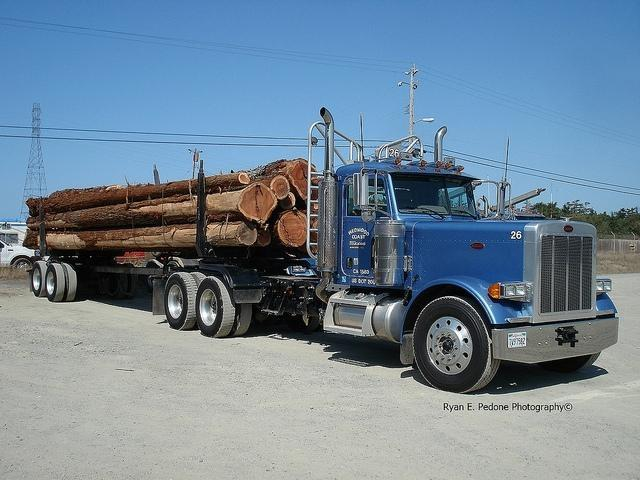car: (0, 237, 40, 268)
truck: (30, 109, 618, 393)
